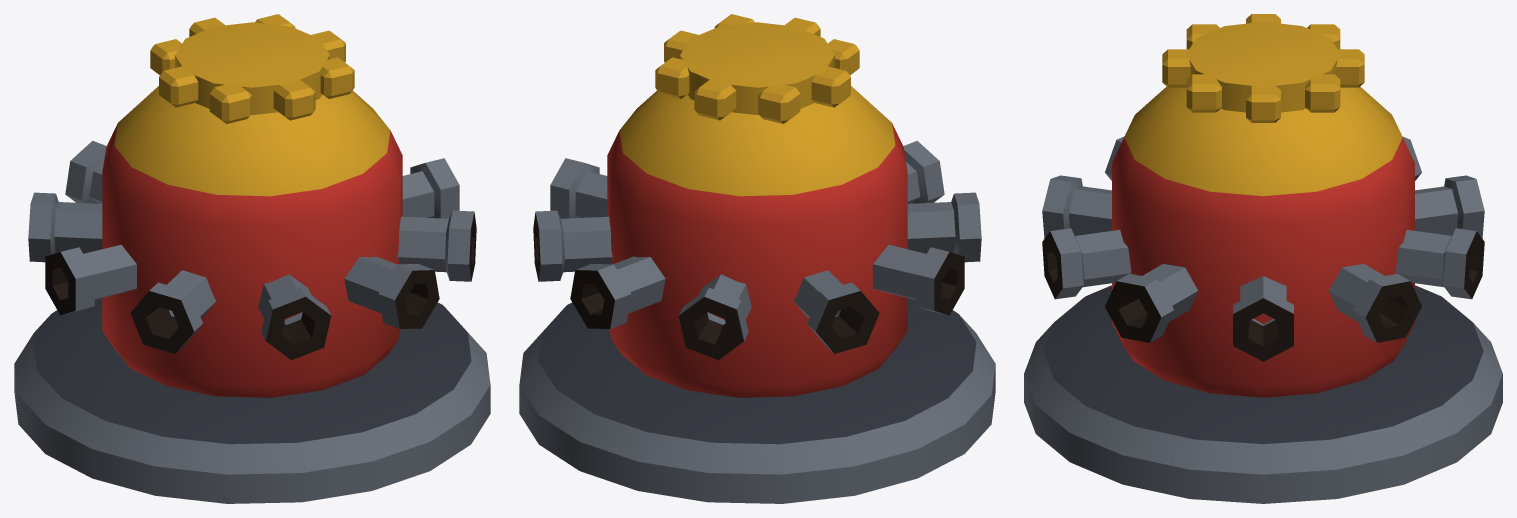
3 views of the same model, side by side, from view 1: azimuth 30°, elevation 25°; view 2: azimuth 150°, elevation 25°; view 3: azimuth 270°, elevation 25° (orthographic).
Visible parts, largest first — view 1: tachinha_1_torreta, tachinha_0_base; view 2: tachinha_1_torreta, tachinha_0_base; view 3: tachinha_1_torreta, tachinha_0_base.
Part boxes in pixels (box(x1,y1,x2,y2)): tachinha_1_torreta: box(28, 14, 476, 397); tachinha_0_base: box(14, 298, 490, 503); tachinha_1_torreta: box(533, 14, 981, 397); tachinha_0_base: box(519, 298, 995, 503); tachinha_1_torreta: box(1042, 14, 1484, 397); tachinha_0_base: box(1024, 285, 1502, 503).
Size of the model in its own units: 0.68 by 0.555 by 0.68.
